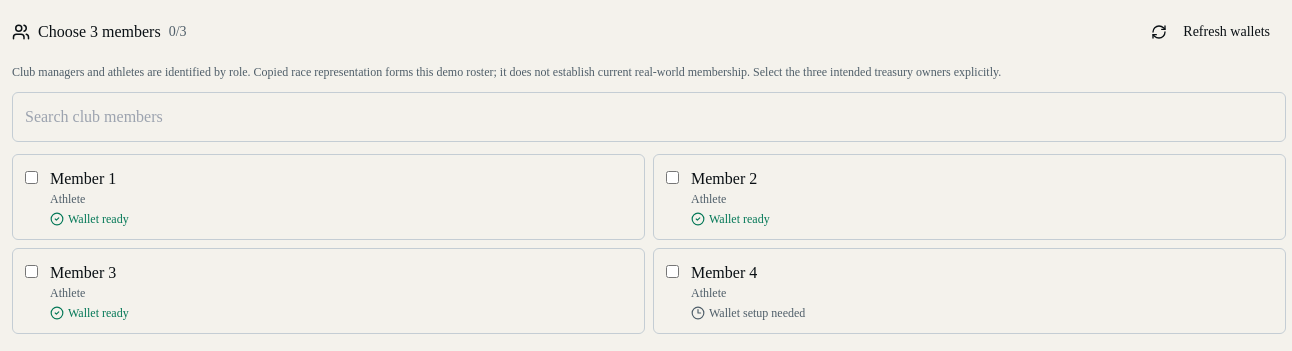
refresh retires readiness and failures cannot retain ready selections
Click the checkbox named "Select Member 1" at point(32, 178), box left=25, top=171, right=38, bottom=184
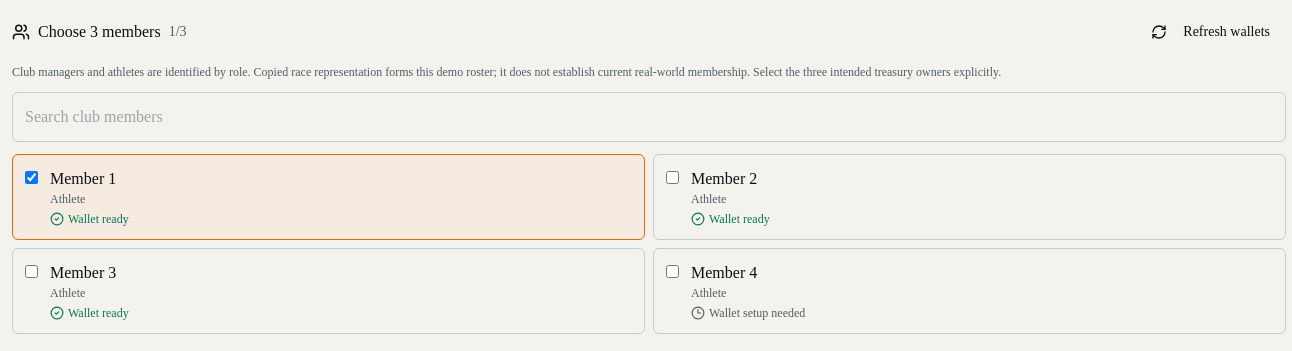
Click the button "Refresh wallets" at point(1211, 32), box left=1135, top=12, right=1286, bottom=52
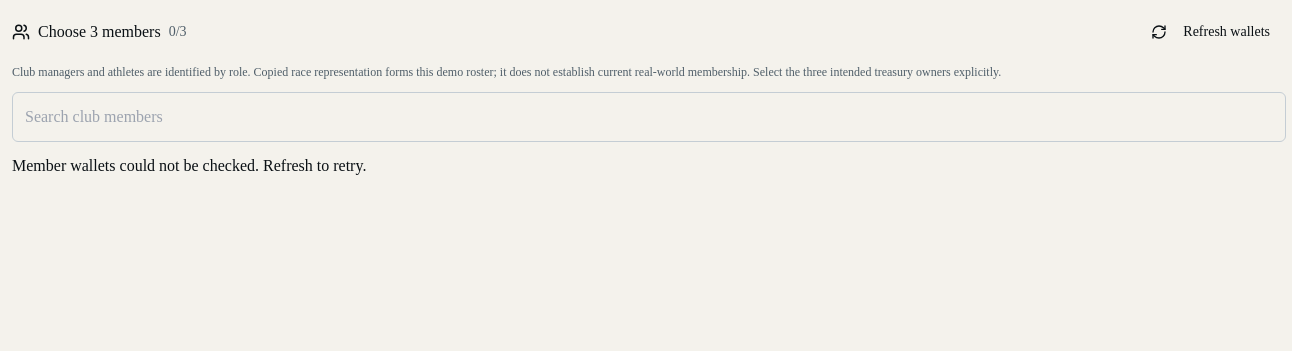
Now the message "Member wallets could not be checked. Refresh to retry." is shown, box left=12, top=157, right=366, bottom=174
